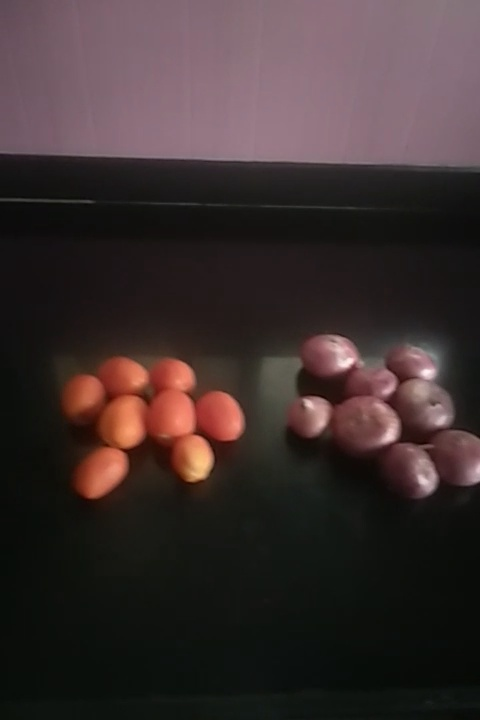onion: (329, 396, 404, 451), (294, 336, 365, 385), (383, 435, 437, 496), (398, 380, 459, 432), (428, 425, 478, 485), (285, 393, 334, 438), (387, 338, 438, 381), (346, 360, 397, 402)
tomato: (71, 445, 130, 500), (93, 393, 145, 448), (56, 372, 113, 422), (193, 396, 249, 445), (94, 354, 147, 401), (143, 353, 195, 396), (170, 434, 214, 481)
